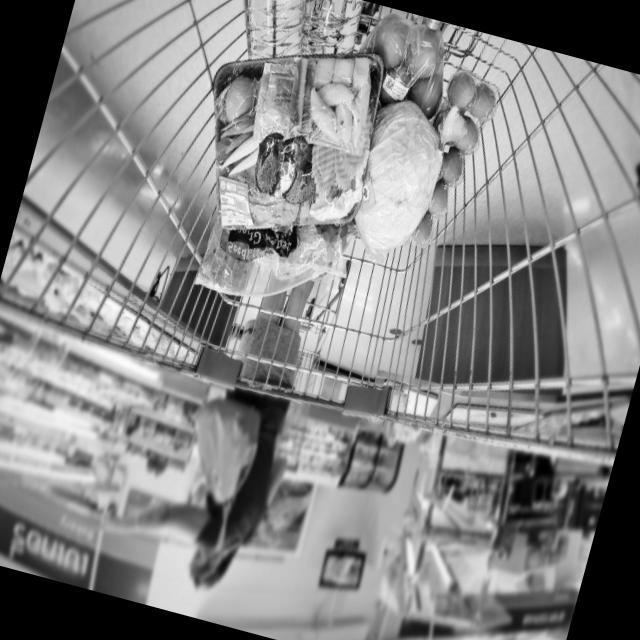apple: (343, 12, 463, 124)
bap cai: (338, 93, 450, 259)
egg: (401, 70, 503, 263)
grape: (194, 198, 300, 290)
